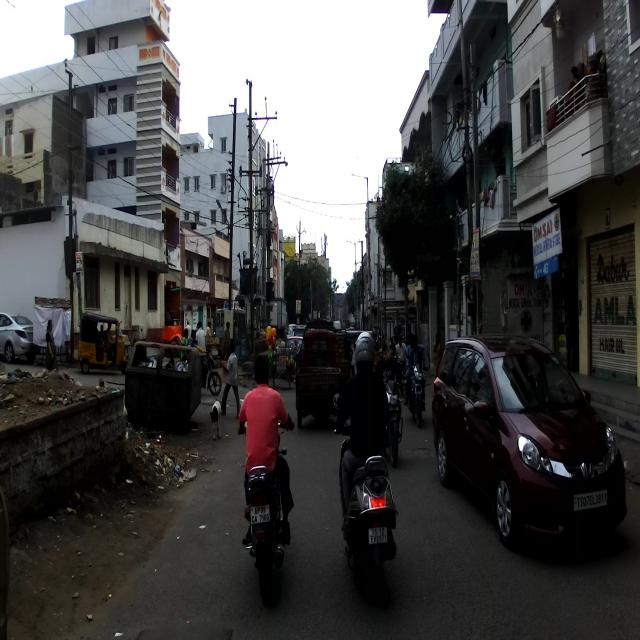autorickshaw: (294, 317, 348, 433), (76, 310, 128, 374)
car: (432, 333, 627, 549)
motorcycle: (237, 399, 294, 602), (377, 374, 403, 466)
scooter: (332, 391, 404, 586)
